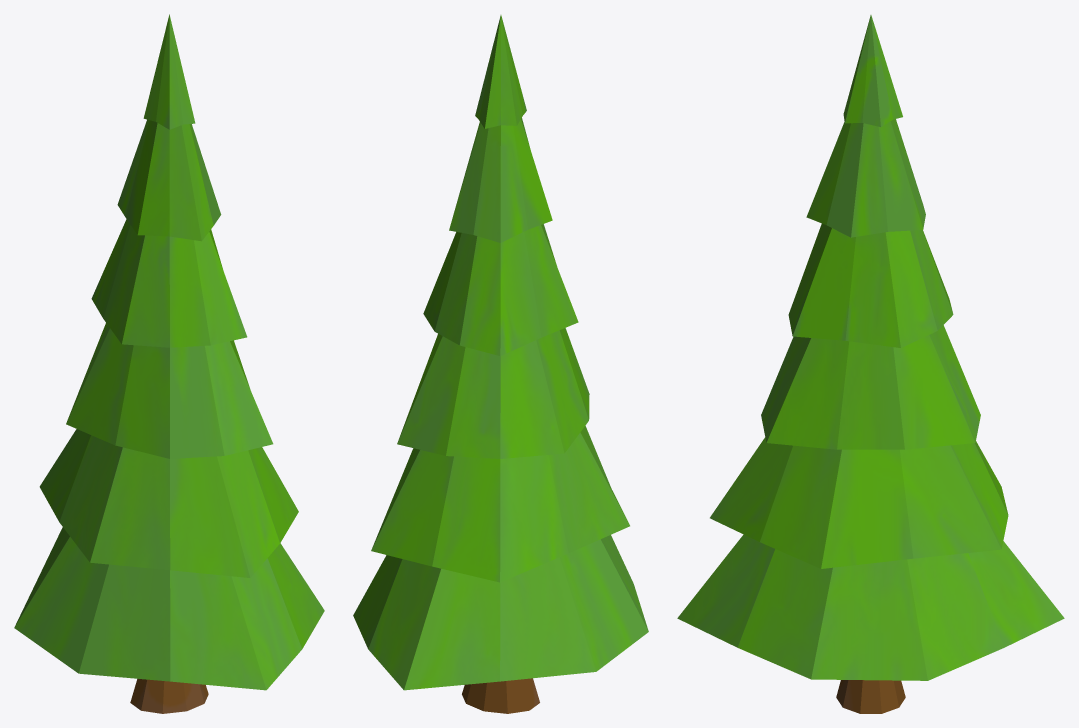
The model's file is agac2.fbx.
3 views of the same model, side by side, from view 1: azimuth 30°, elevation 25°; view 2: azimuth 150°, elevation 25°; view 3: azimuth 270°, elevation 25° (orthographic).
Visible parts, largest first — view 1: agac1; view 2: agac1; view 3: agac1.
Boxes of the visible parts, left/top/right/bottom form: agac1: left=14, top=14, right=324, bottom=713; agac1: left=353, top=15, right=648, bottom=713; agac1: left=677, top=15, right=1064, bottom=713.
Bounding box in the file's own units: 3.19 × 8.32 × 4.28.
Materials: 1 (1 with a texture image).
